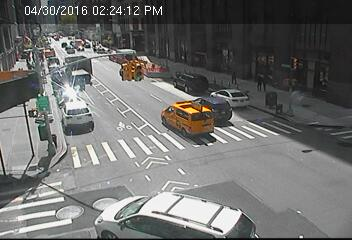neg: (189, 166, 208, 190), (82, 112, 100, 136), (278, 186, 296, 210), (26, 98, 44, 121), (286, 145, 304, 168), (64, 200, 81, 223), (41, 129, 58, 151), (273, 99, 289, 120), (128, 54, 143, 74), (233, 156, 248, 176), (219, 42, 234, 61), (117, 115, 132, 134), (77, 34, 91, 53), (292, 73, 306, 91), (69, 63, 82, 82), (103, 195, 116, 213), (172, 44, 185, 61), (137, 153, 150, 170), (62, 85, 74, 101), (44, 46, 56, 62), (269, 45, 280, 60)
pos: (254, 75, 266, 92), (229, 70, 241, 86)
